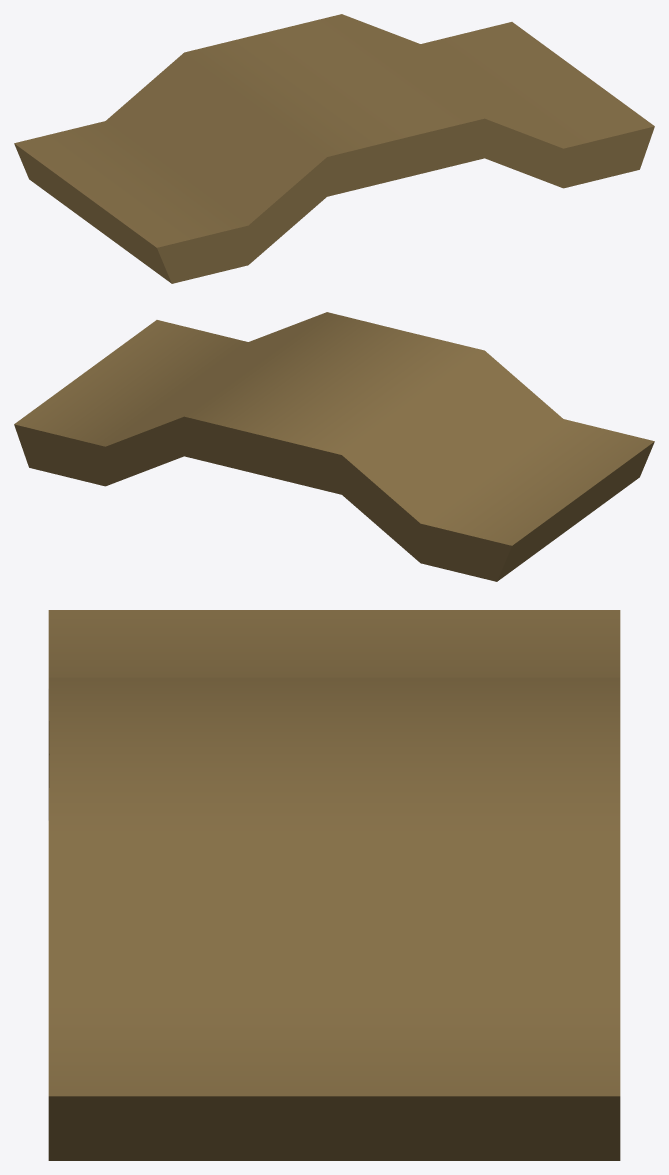
File: Itr_Obj_Grandfatherclock1_Top_01.FBX
The picture shows the model from 3 angles, top to bottom: view 1: azimuth 30°, elevation 25°; view 2: azimuth 150°, elevation 25°; view 3: azimuth 270°, elevation 25°; orthographic projection. The views are drawn at different scales.
Parts seen in each view (by area): view 1: Itr_Obj_Grandfatherclock1_Top_01; view 2: Itr_Obj_Grandfatherclock1_Top_01; view 3: Itr_Obj_Grandfatherclock1_Top_01.
Part boxes in pixels (<box>): Itr_Obj_Grandfatherclock1_Top_01: <box>14,14,654,283</box>; Itr_Obj_Grandfatherclock1_Top_01: <box>14,312,654,581</box>; Itr_Obj_Grandfatherclock1_Top_01: <box>48,610,620,1160</box>.
Size of the model in its own units: 22.92 by 3.92 by 11.39.
